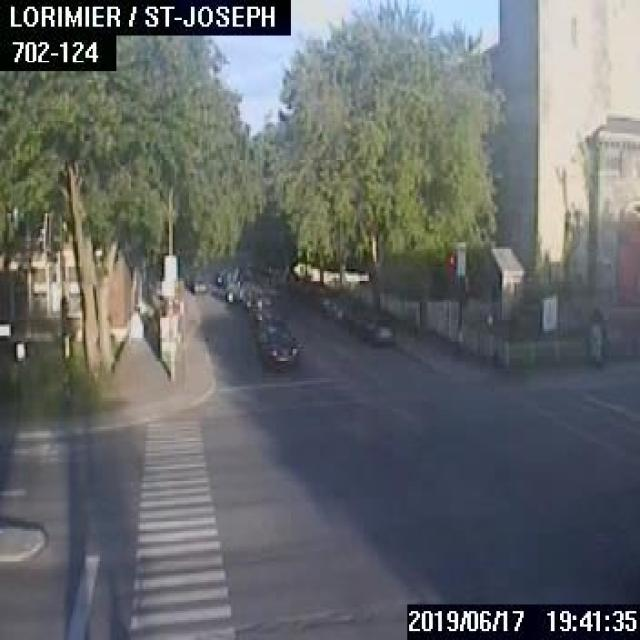vehicle: (257, 320, 298, 370), (361, 315, 393, 343), (243, 289, 261, 308), (224, 282, 238, 300), (216, 268, 232, 283)
